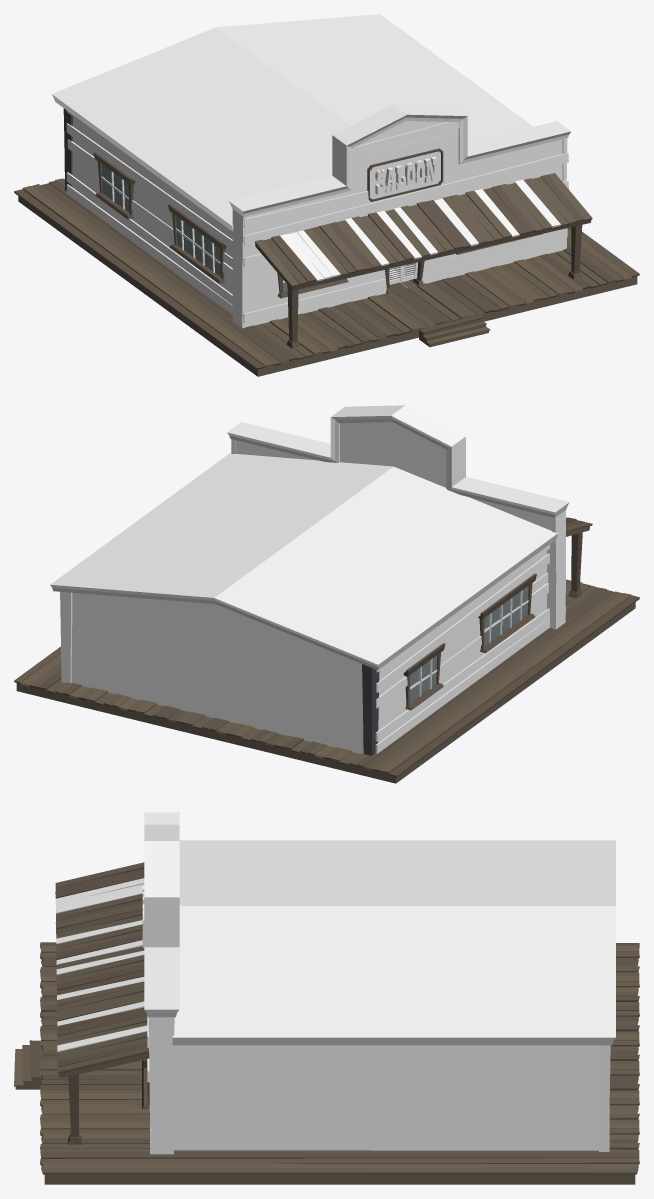
File: Saloon 1.fbx
3 renders of one model, top to bottom at view 1: azimuth 30°, elevation 25°; view 2: azimuth 150°, elevation 25°; view 3: azimuth 270°, elevation 25°, orthographic. The views are drawn at different scales.
Visible parts, largest first — view 1: MSH_saloon_muro_esterno, MSH_saloon_interno; view 2: MSH_saloon_muro_esterno, MSH_saloon_interno; view 3: MSH_saloon_muro_esterno, MSH_saloon_interno.
Boxes of the visible parts, x1,y1,x2,y2 form: MSH_saloon_muro_esterno: (52, 14, 592, 348); MSH_saloon_interno: (14, 108, 639, 376); MSH_saloon_muro_esterno: (50, 405, 592, 753); MSH_saloon_interno: (14, 579, 639, 783); MSH_saloon_muro_esterno: (55, 812, 615, 1154); MSH_saloon_interno: (14, 942, 639, 1184).
Bounding box in the file's own units: 2380 × 1109 × 2728.
